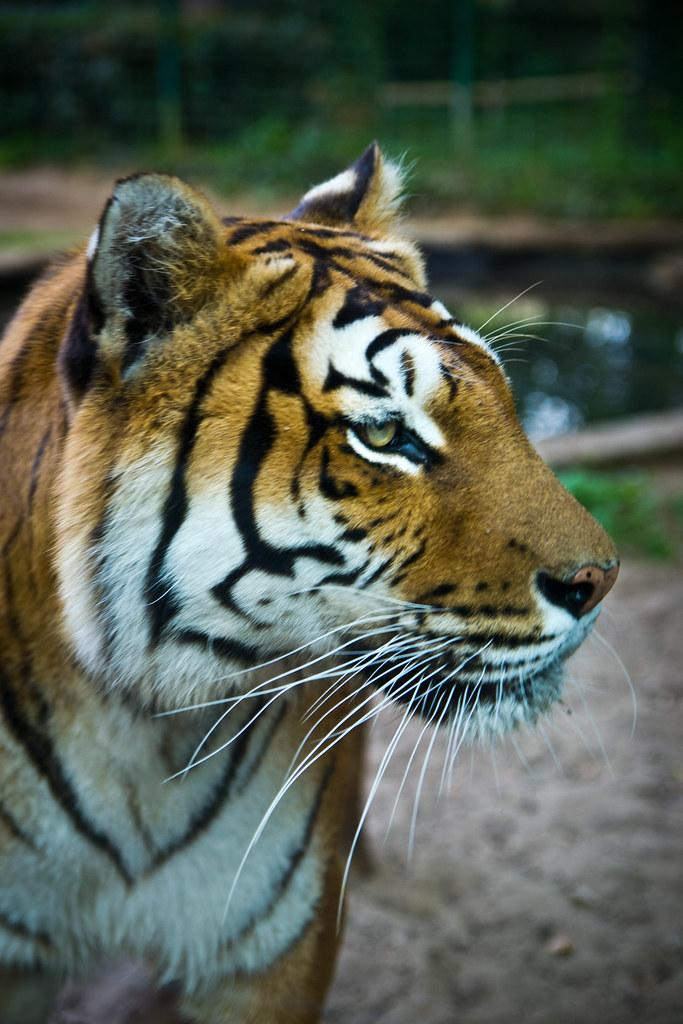tiger: (2, 140, 638, 1022)
